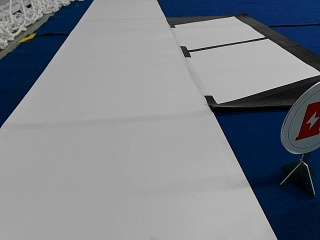battery: (281, 81, 320, 155)
